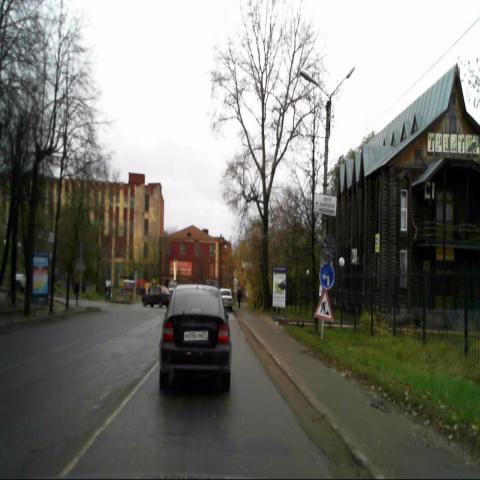1_25: (314, 289, 334, 321)
4_1_3: (319, 261, 335, 289)
